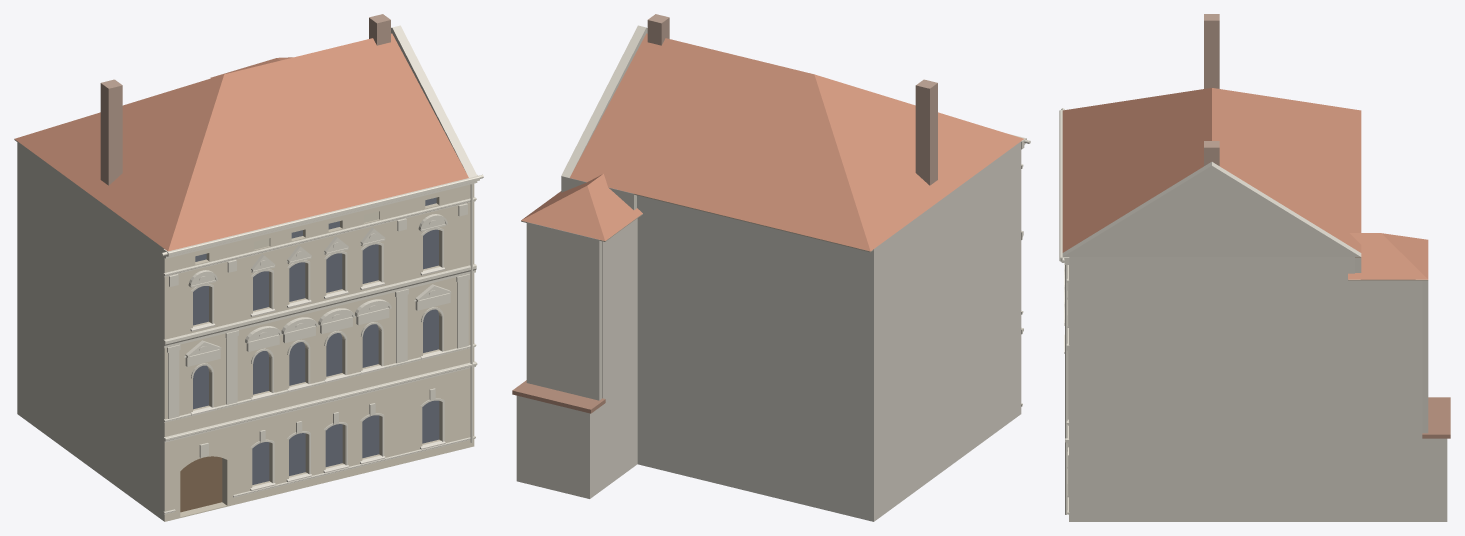
3 views of the same model, side by side, from view 1: azimuth 30°, elevation 25°; view 2: azimuth 150°, elevation 25°; view 3: azimuth 270°, elevation 25° (orthographic). The views are drawn at different scales.
Visible parts, largest first — view 1: CP_262_Masonry, CP_262_Roof, CP_262_Cornice_first_string_0, CP_262_Cornice_main_cornice_0, CP_262_Chimney_0, CP_262_Cornice_ground_string_0, CP_262_Gable_R_firewall, CP_262_Cornice_second_string_0, CP_262_Cornice_first_sill_band_0, CP_262_Pilaster_1Rf, CP_262_Pilaster_6Rf, CP_262_Pilaster_1Lf (+4 smaller); view 2: CP_262_Masonry, CP_262_Roof, CP_262_AtticClosure_2, CP_262_Right_Strip, CP_262_Annex_Kassa, CP_262_WingRoof_Right_Strip, CP_262_Chimney_0, CP_262_Gable_R_firewall, CP_262_Annex_Roof, CP_262_Chimney_1; view 3: CP_262_Masonry, CP_262_Roof, CP_262_Right_Strip, CP_262_Gable_R_firewall, CP_262_WingRoof_Right_Strip, CP_262_Annex_Kassa, CP_262_Chimney_0, CP_262_AtticClosure_2, CP_262_Annex_Roof, CP_262_Downpipe_0, CP_262_Cornice_main_cornice_0.
Boxes of the visible parts, x1,y1,x2,y2 form: CP_262_Masonry: (17, 141, 474, 521); CP_262_Roof: (14, 33, 468, 251); CP_262_Cornice_first_string_0: (163, 264, 476, 348); CP_262_Cornice_main_cornice_0: (163, 175, 479, 258); CP_262_Chimney_0: (100, 79, 122, 185); CP_262_Cornice_ground_string_0: (163, 361, 477, 442); CP_262_Gable_R_firewall: (391, 25, 477, 177); CP_262_Cornice_second_string_0: (163, 197, 476, 276); CP_262_Cornice_first_sill_band_0: (163, 343, 476, 422); CP_262_Pilaster_1Rf: (226, 336, 237, 404); CP_262_Pilaster_6Rf: (457, 279, 468, 348); CP_262_Pilaster_1Lf: (168, 350, 179, 418); CP_262_Masonry: (637, 141, 1021, 521); CP_262_Roof: (570, 33, 1023, 251); CP_262_AtticClosure_2: (526, 222, 602, 400); CP_262_Right_Strip: (602, 218, 637, 489); CP_262_Annex_Kassa: (516, 395, 602, 498); CP_262_WingRoof_Right_Strip: (521, 174, 642, 240); CP_262_Chimney_0: (915, 79, 937, 185); CP_262_Gable_R_firewall: (561, 25, 647, 177); CP_262_Annex_Roof: (512, 380, 605, 413); CP_262_Chimney_1: (647, 14, 669, 45); CP_262_Masonry: (1069, 257, 1354, 521); CP_262_Roof: (1062, 88, 1361, 252); CP_262_Right_Strip: (1354, 280, 1422, 521); CP_262_Gable_R_firewall: (1062, 162, 1361, 256); CP_262_WingRoof_Right_Strip: (1348, 233, 1428, 279); CP_262_Annex_Kassa: (1421, 436, 1447, 521); CP_262_Chimney_0: (1204, 14, 1219, 88); CP_262_AtticClosure_2: (1422, 280, 1428, 433); CP_262_Annex_Roof: (1422, 397, 1450, 438); CP_262_Downpipe_0: (1065, 265, 1067, 514); CP_262_Cornice_main_cornice_0: (1059, 110, 1069, 264).
Bounding box in the file's own units: 17.1 × 19.3 × 18.6.
